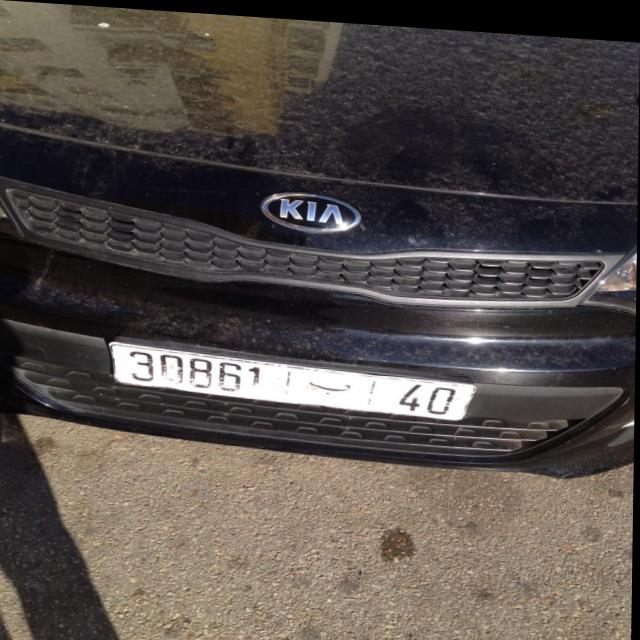License-Plate: (111, 340, 476, 414)
